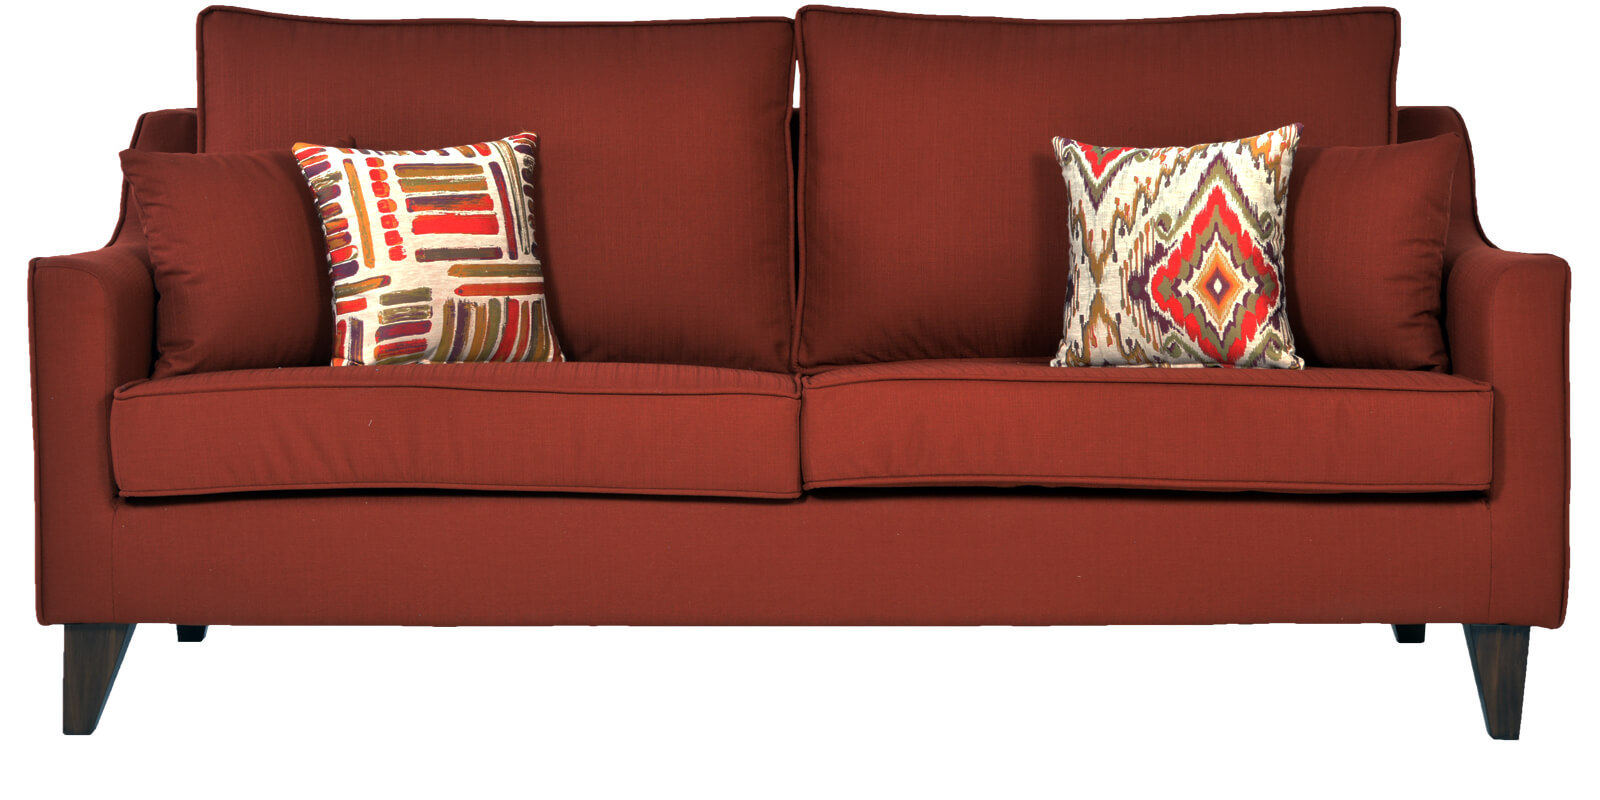Ithaca Impulse Three Seater Sofa with Throw Cushions in Burnt Sienna Colour by U: (18, 1, 1597, 782)
